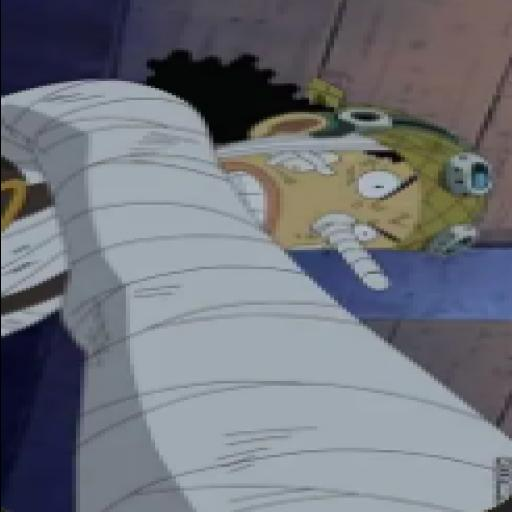Usopp: (0, 47, 512, 512)
